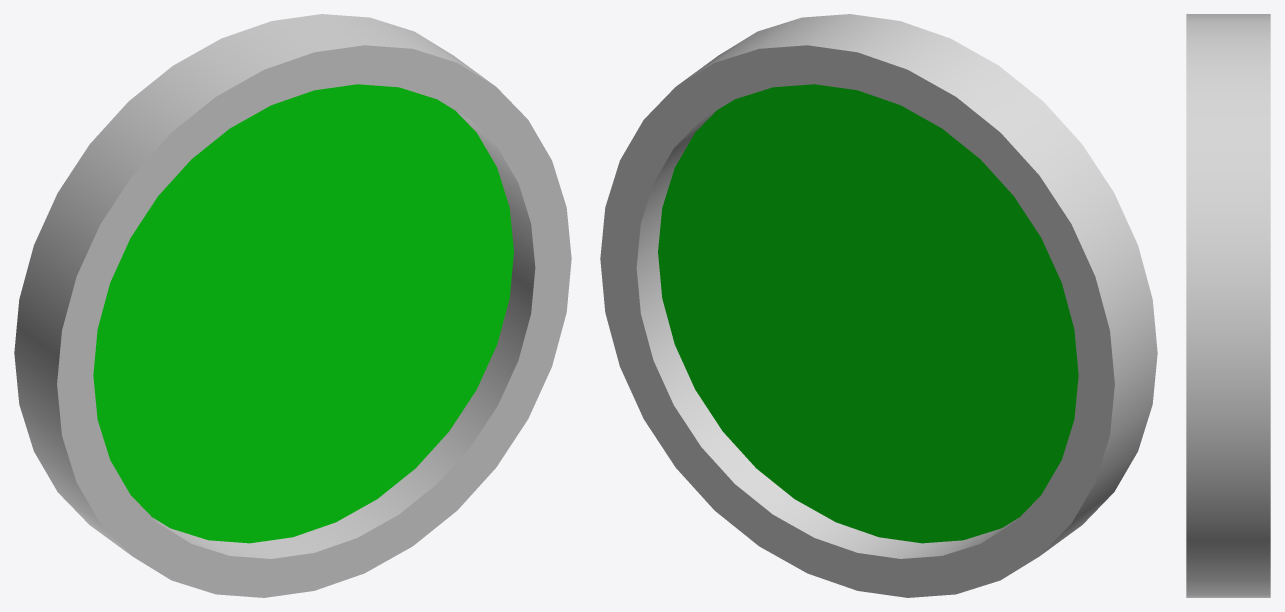
File: Portal_Gate.fbx
3 renders of one model, left to right at view 1: azimuth 30°, elevation 25°; view 2: azimuth 150°, elevation 25°; view 3: azimuth 270°, elevation 25°, orthographic.
Parts seen in each view (by area): view 1: Portal_Gate; view 2: Portal_Gate; view 3: Portal_Gate.
Boxes of the visible parts, bbox=[...] form: Portal_Gate: bbox=[14, 14, 571, 597]; Portal_Gate: bbox=[600, 14, 1157, 597]; Portal_Gate: bbox=[1186, 14, 1270, 597].
Bounding box in the file's own units: 243 × 243 × 35.
